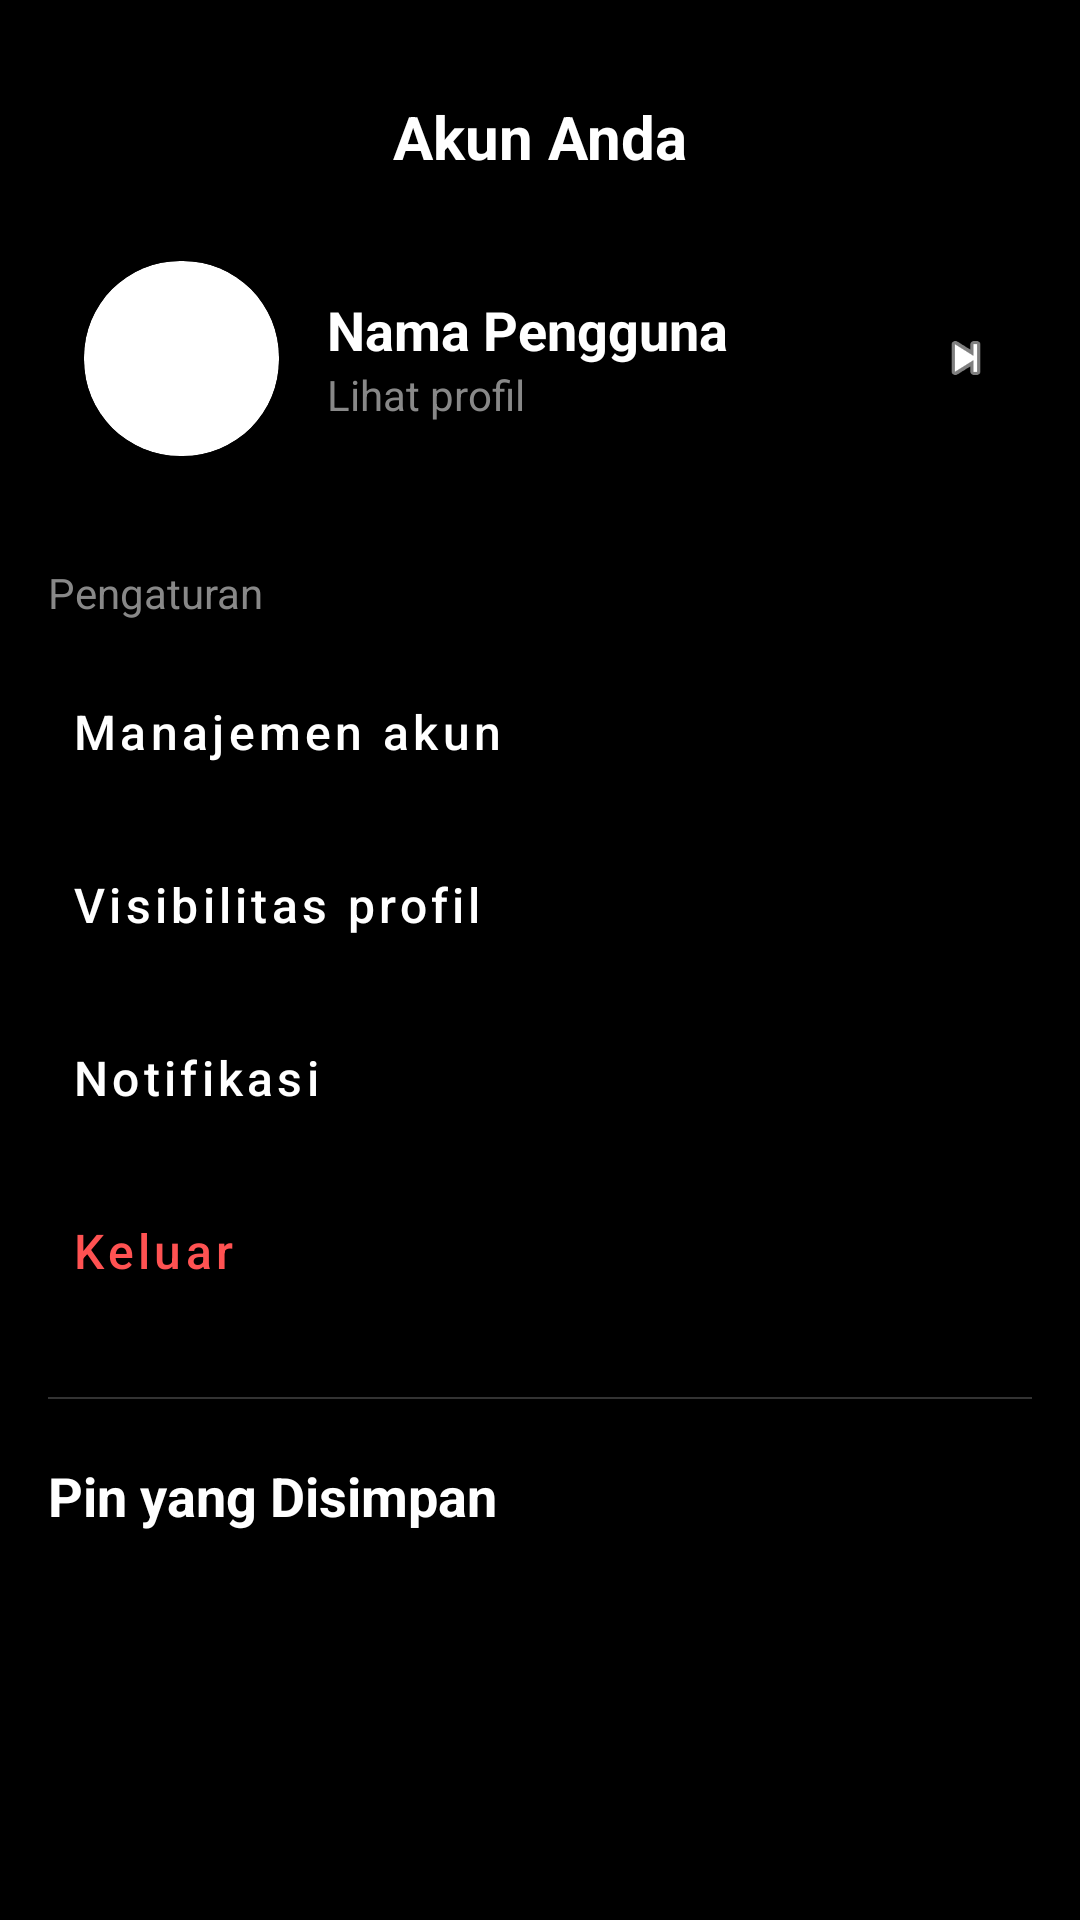

Named icons in this screenshot (1080*1920) and their bounding boxes, [left=x1, top=y1, right=x2, bottom=y2]:
next: [left=951, top=341, right=981, bottom=375]
